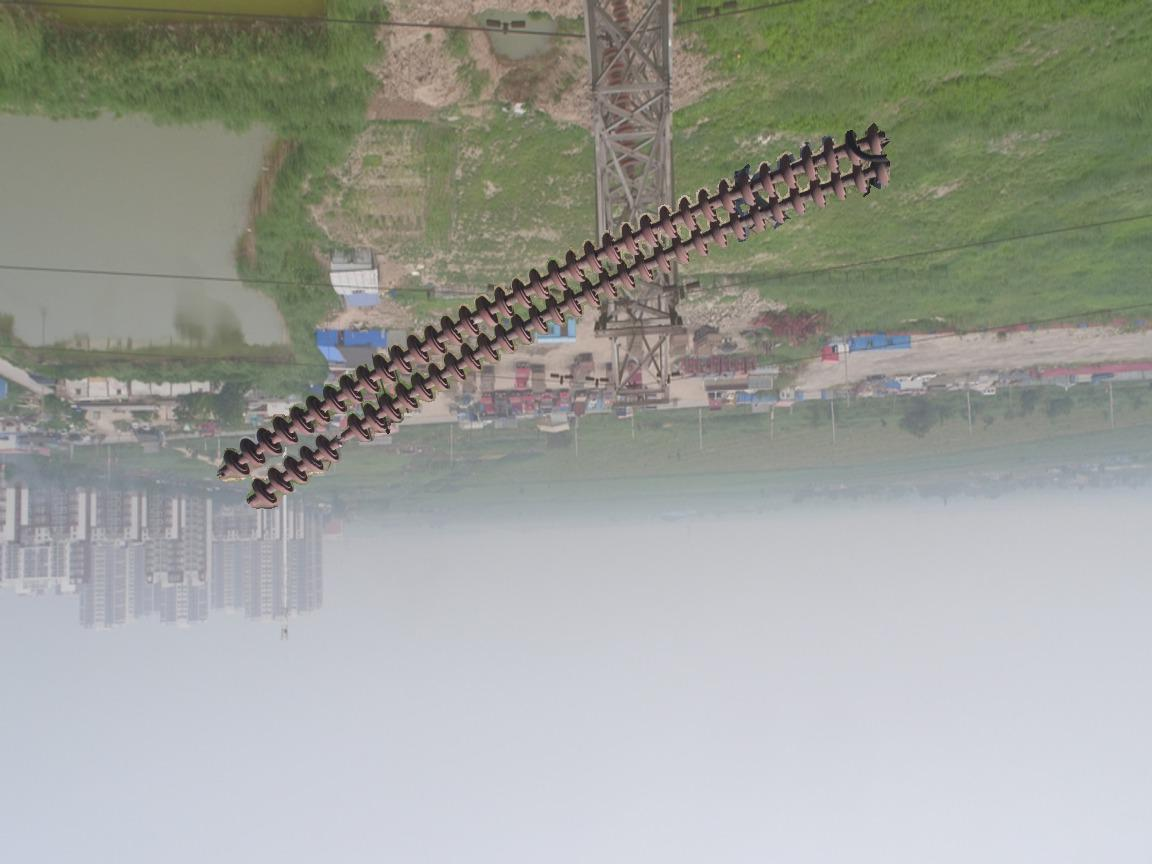insulator: (208, 122, 897, 512), (602, 42, 644, 176)
insulator_stringdrop: (313, 412, 374, 465)
